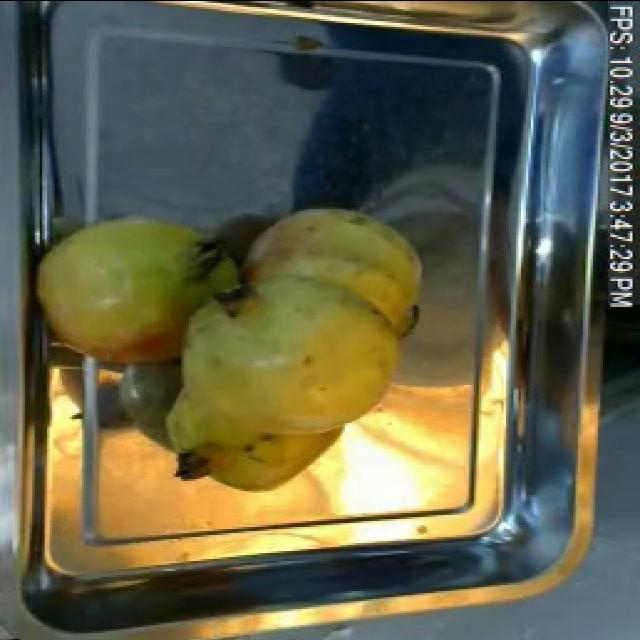fruit: (228, 194, 442, 378), (25, 198, 231, 388)
